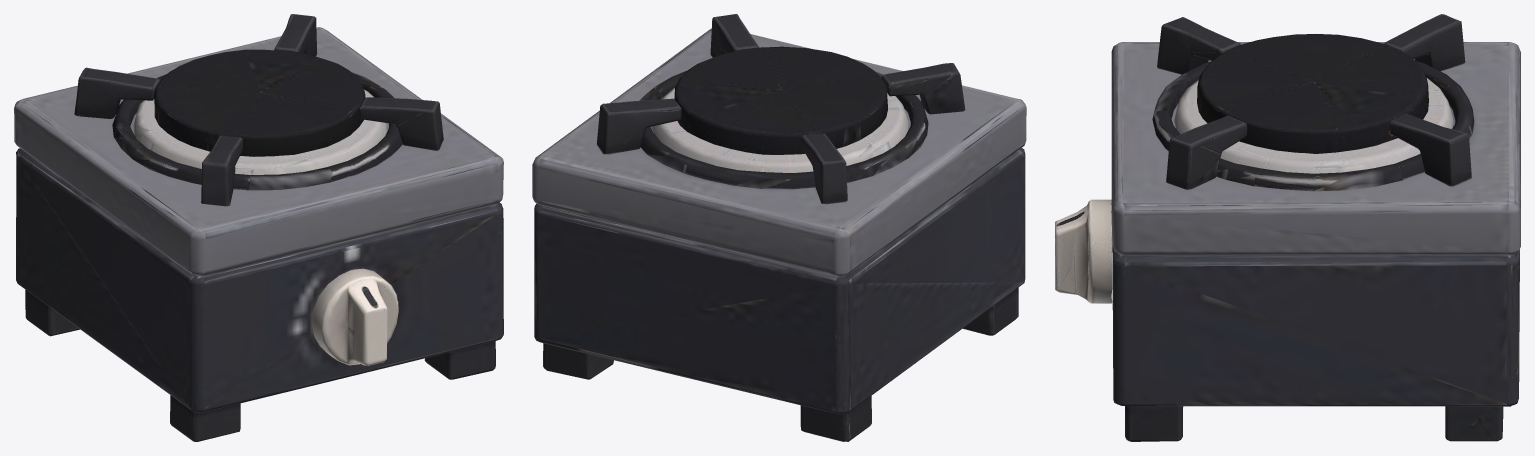
The model's file is stove.glb.
3 renders of one model, left to right at view 1: azimuth 30°, elevation 25°; view 2: azimuth 150°, elevation 25°; view 3: azimuth 270°, elevation 25°, orthographic. The views are drawn at different scales.
Bounding box in the file's own units: 0.8613 × 0.668 × 1.
1 material, 1 textured.
